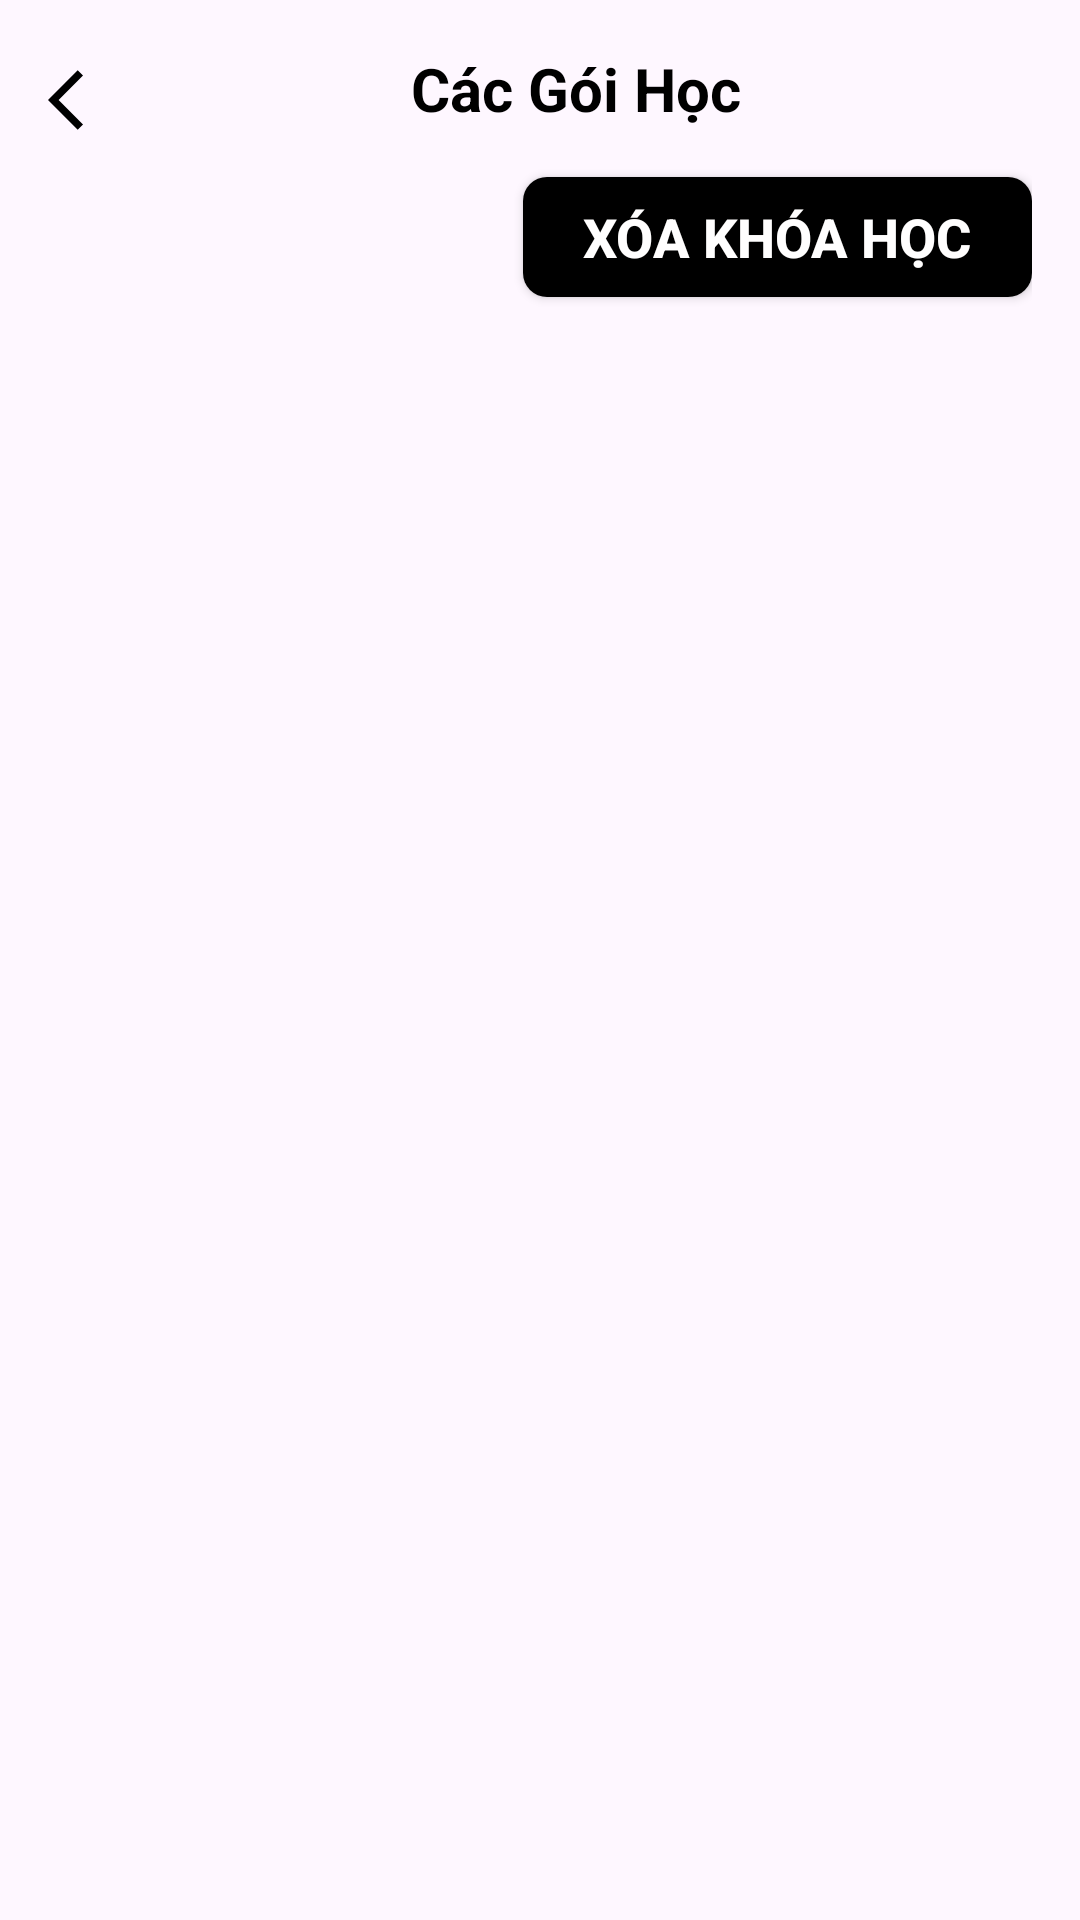

Screen size 1080w x 1920h. Icon name, then its box in pixels as (x1, y1, x2, y2):
Back: (48, 70, 83, 130)
